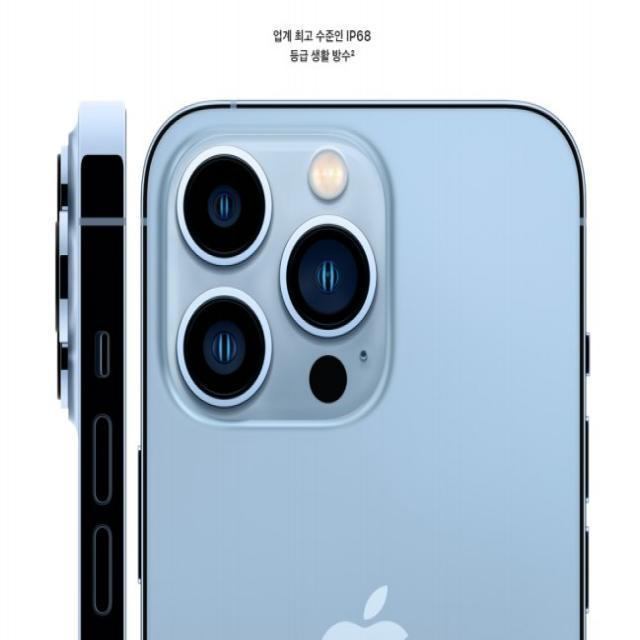phone: (141, 84, 599, 640)
